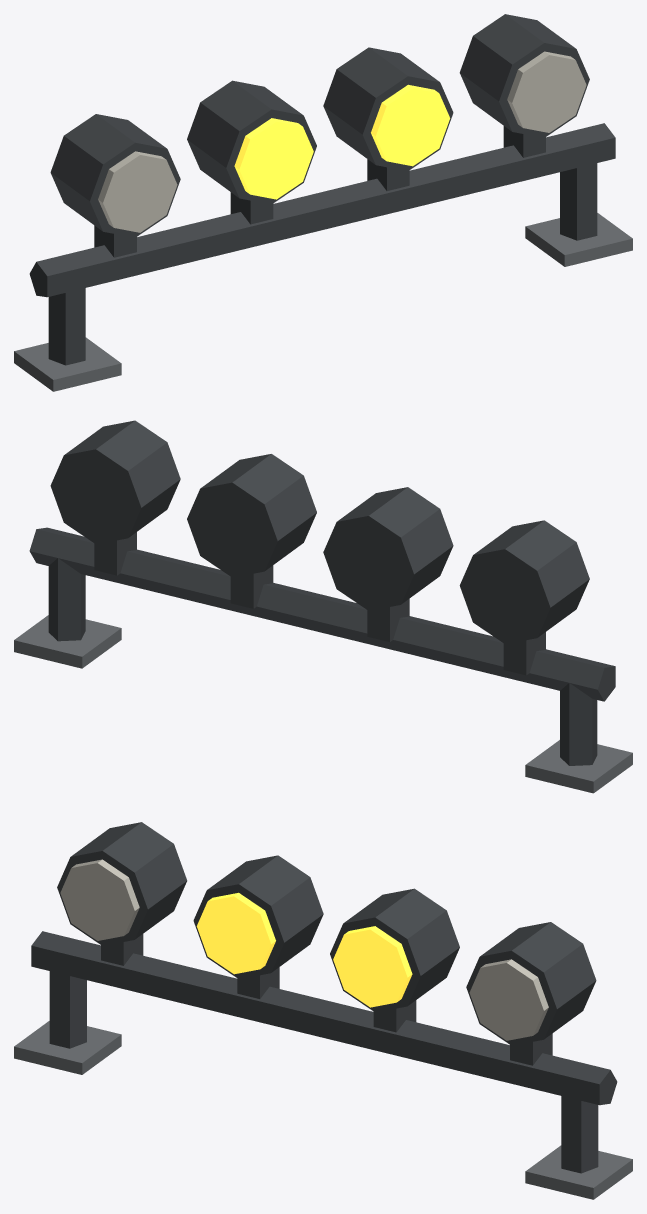
File: upg_spotlights.glb
3 views of the same model, one above another, from view 1: azimuth 30°, elevation 25°; view 2: azimuth 150°, elevation 25°; view 3: azimuth 330°, elevation 25° (orthographic).
Visible parts, largest first — view 1: spotlights; view 2: spotlights; view 3: spotlights.
Part boxes in pixels (box(x1,y1,x2,y2)): spotlights: box(14, 14, 632, 391); spotlights: box(14, 420, 632, 793); spotlights: box(14, 822, 632, 1199).
Size of the model in its own units: 1.02 by 0.38 by 0.135.
